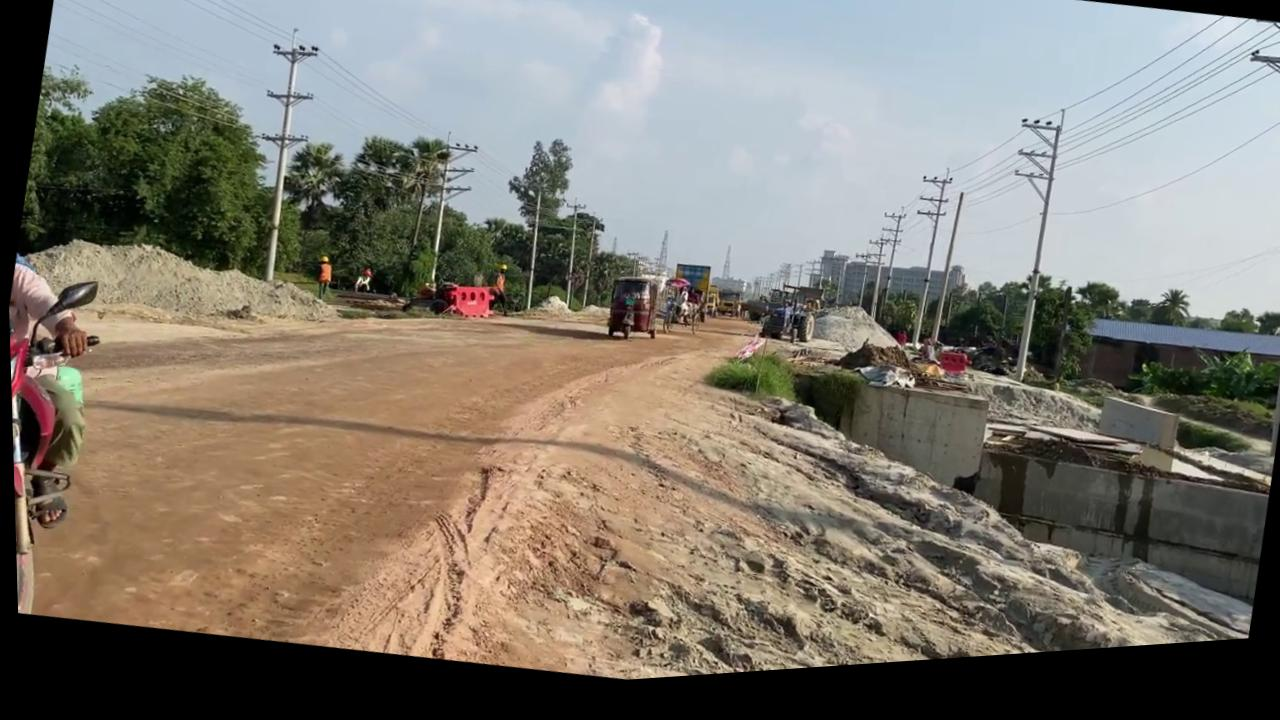Motorcycle: (6, 263, 114, 618)
Obstacle: (823, 378, 990, 512), (1090, 405, 1179, 471), (428, 282, 496, 330)
Pole: (230, 27, 329, 290), (1246, 47, 1280, 475), (890, 178, 956, 361), (922, 202, 967, 359)
Traffic-sign: (64, 55, 283, 286), (483, 136, 579, 323)
Tree: (395, 132, 528, 335), (398, 253, 512, 336), (753, 288, 824, 359), (600, 280, 659, 352), (665, 268, 716, 328), (736, 292, 786, 338)
